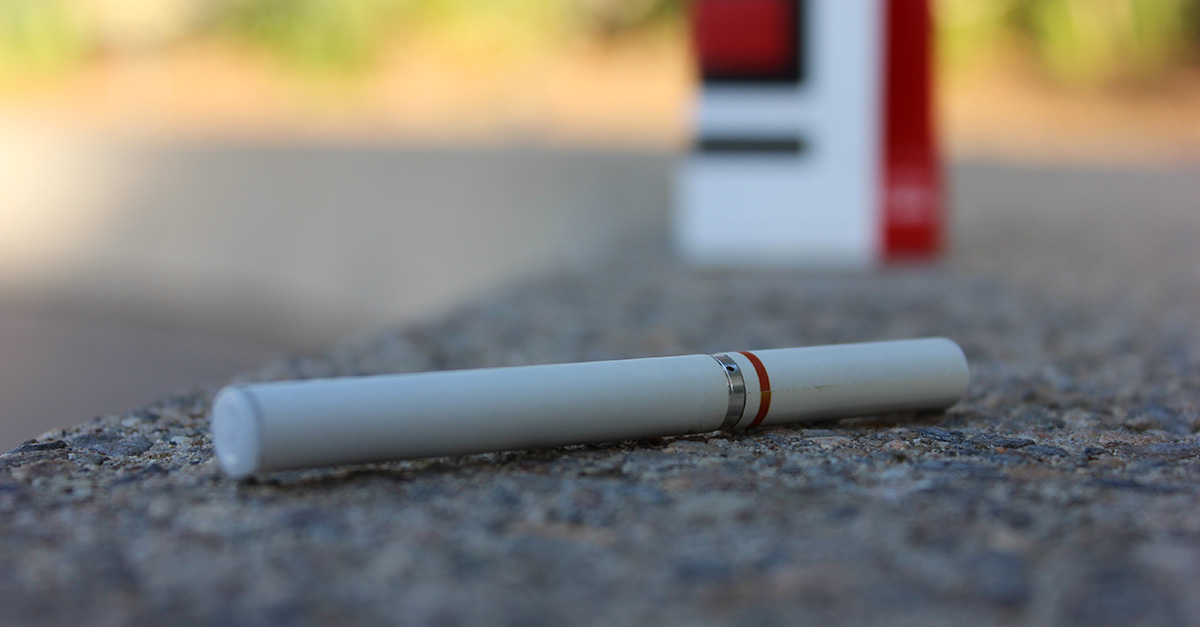cigarette: (196, 333, 997, 491)
